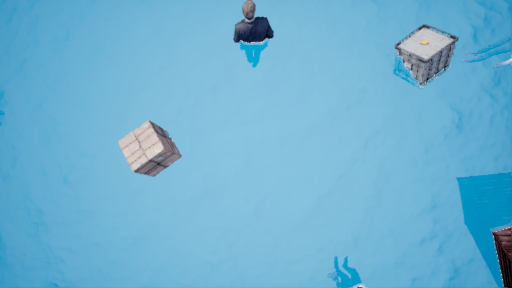person: (228, 3, 288, 74)
